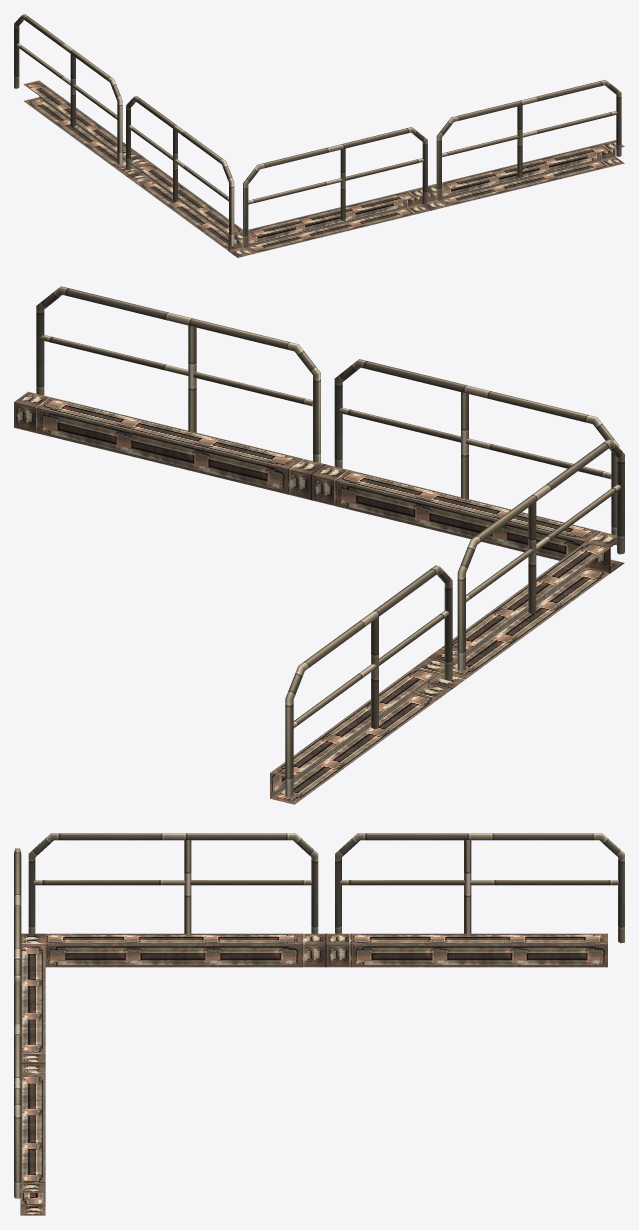
The model's file is mpr_railing_hole.FBX.
3 renders of one model, top to bottom at view 1: azimuth 30°, elevation 25°; view 2: azimuth 150°, elevation 25°; view 3: azimuth 270°, elevation 25°, orthographic. The views are drawn at different scales.
Parts seen in each view (by area): view 1: mpr_railing_hole; view 2: mpr_railing_hole; view 3: mpr_railing_hole.
Boxes of the visible parts, bbox=[...] form: mpr_railing_hole: bbox=[14, 14, 624, 257]; mpr_railing_hole: bbox=[14, 286, 624, 804]; mpr_railing_hole: bbox=[14, 833, 624, 1215].
Size of the model in its own units: 744 by 161 by 733.
